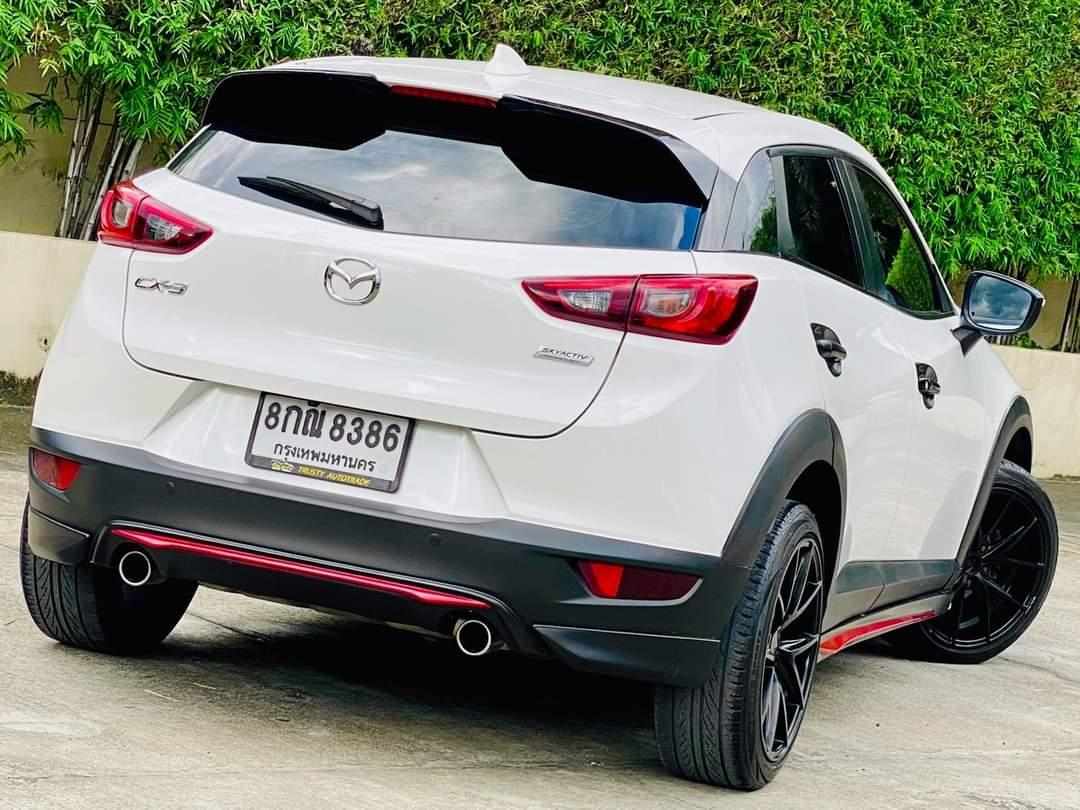license-plate: (242, 387, 421, 499)
